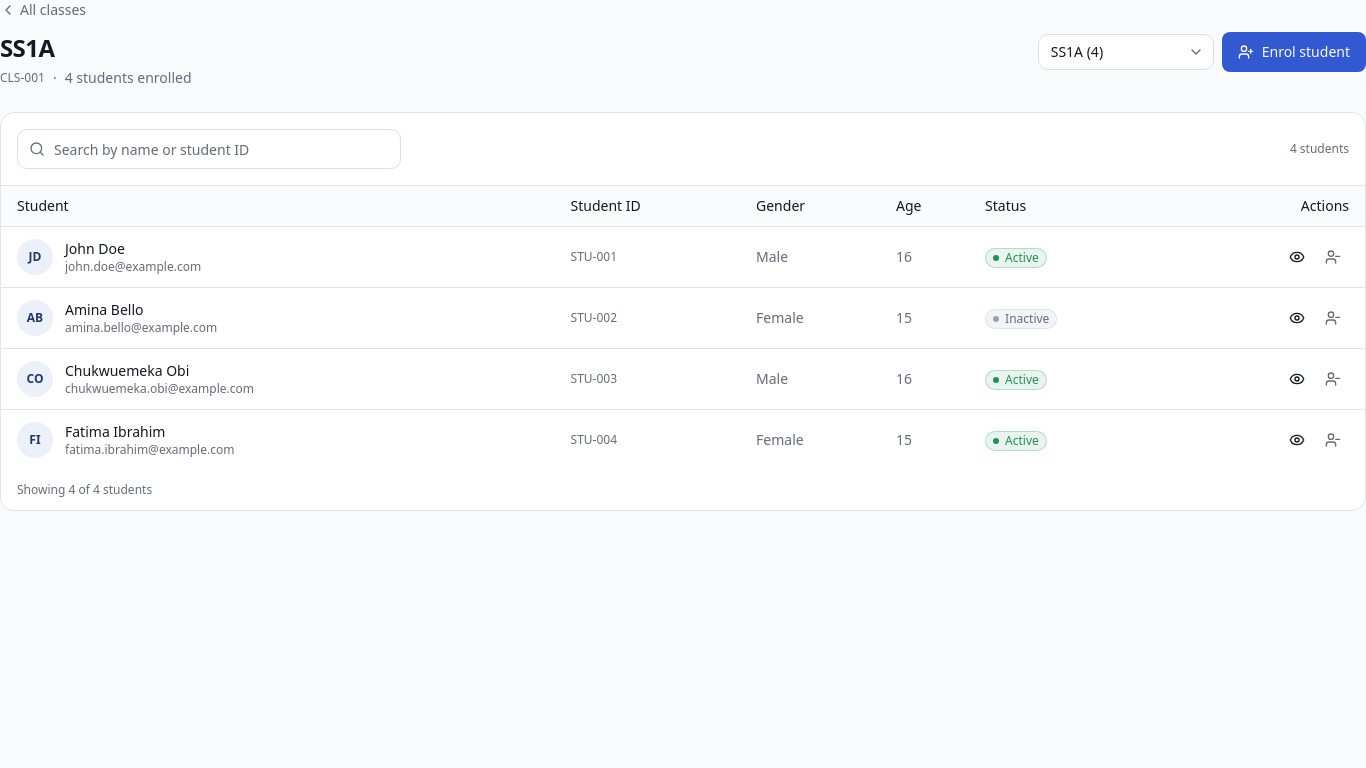
Test: ClassDetailView › confirms before removing a student, then updates the roster
Click the button named "remove john doe from this class": x=1333, y=256 [1317,240,1349,272]
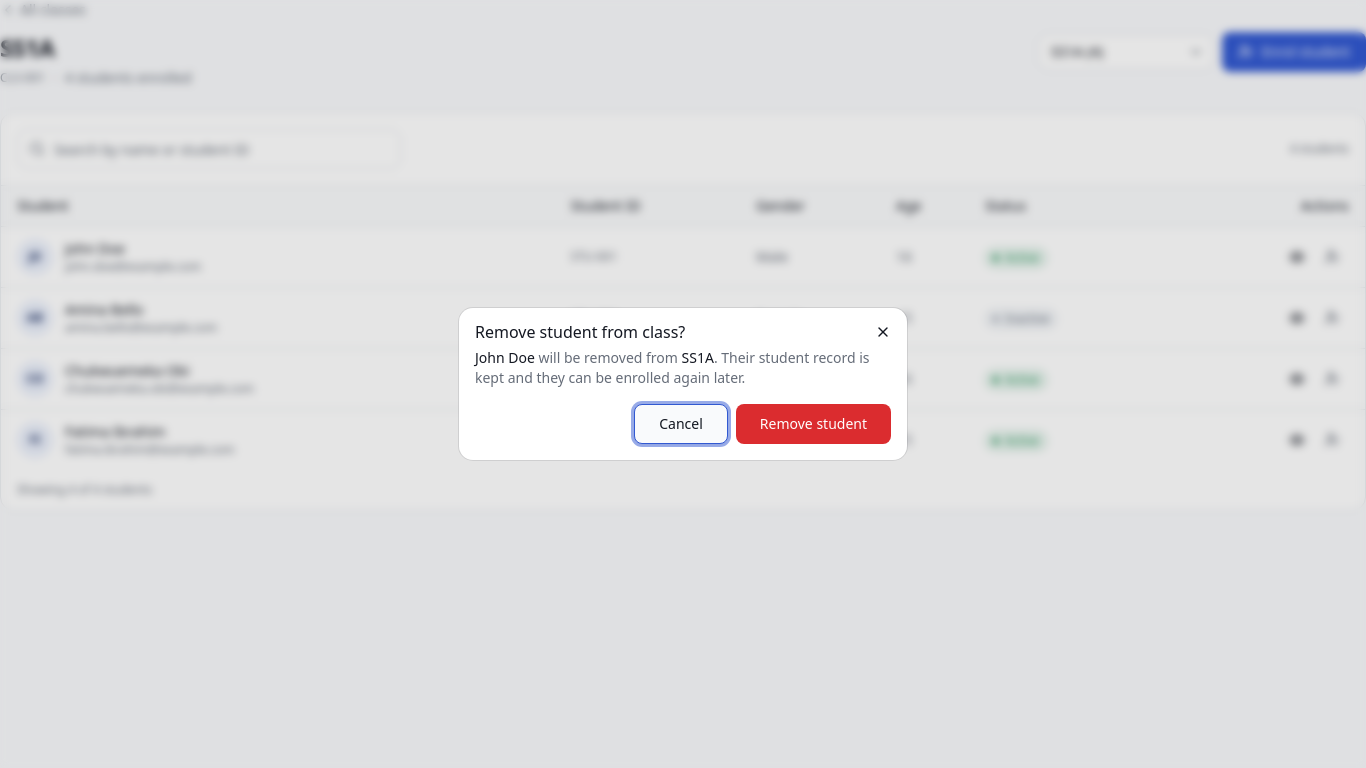
Expected: the heading "Remove student from class?" is shown, [475,321,685,343]
Click the button "Remove student": x=813, y=424 [736,404,891,444]
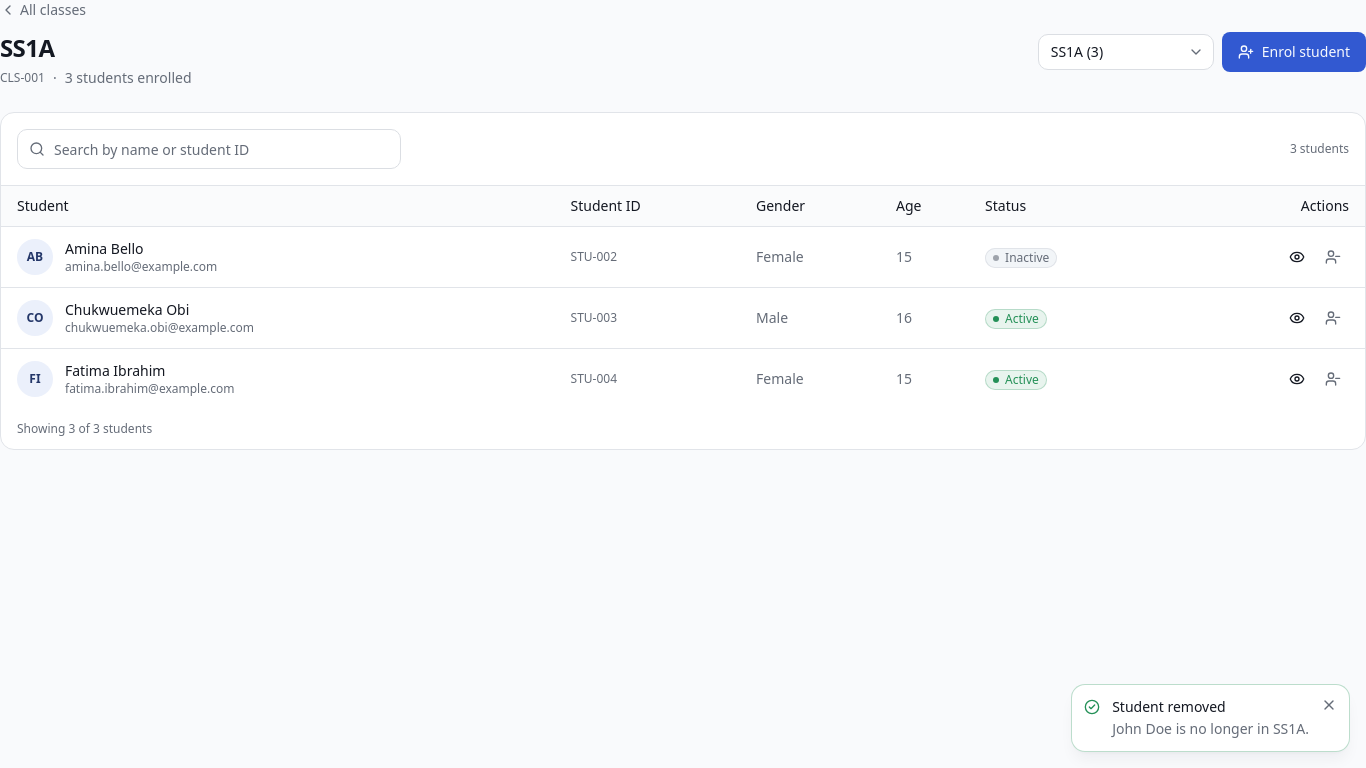
Expected: the text "Student removed" is shown, [1112,697,1226,716]
Expected: the text "3 students" is shown, [1290,141,1349,157]
